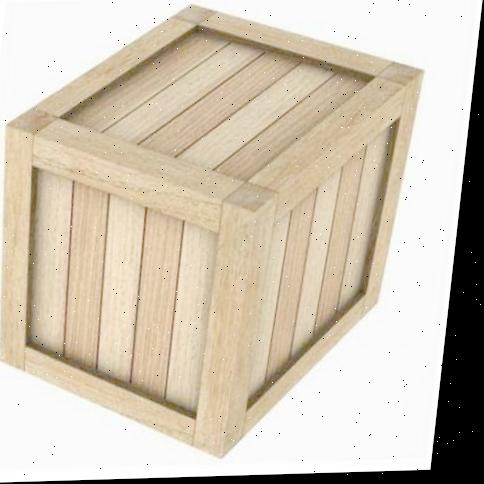cube: (0, 2, 429, 466)
